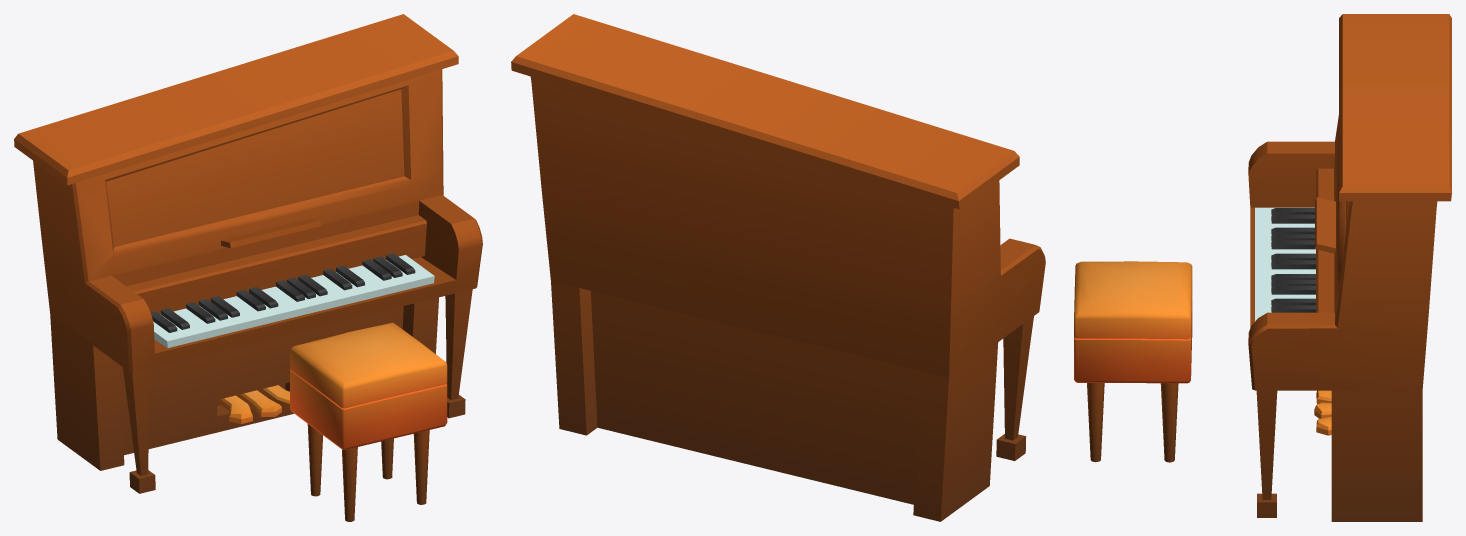
File: Piano .fbx
3 renders of one model, left to right at view 1: azimuth 30°, elevation 25°; view 2: azimuth 150°, elevation 25°; view 3: azimuth 270°, elevation 25°, orthographic. The views are drawn at different scales.
Parts seen in each view (by area): view 1: Piano, Chair_2_Orange.002_LivingRoom_0; view 2: Piano; view 3: Piano, Chair_2_Orange.002_LivingRoom_0.
Part boxes in pixels (left/top/right/bottom): Piano: left=14, top=14, right=482, bottom=493; Chair_2_Orange.002_LivingRoom_0: left=290, top=322, right=447, bottom=521; Piano: left=511, top=14, right=1045, bottom=521; Piano: left=1248, top=14, right=1451, bottom=521; Chair_2_Orange.002_LivingRoom_0: left=1074, top=261, right=1192, bottom=462.
Size of the model in its own units: 275 by 222 by 217.
1 material, 1 textured.
